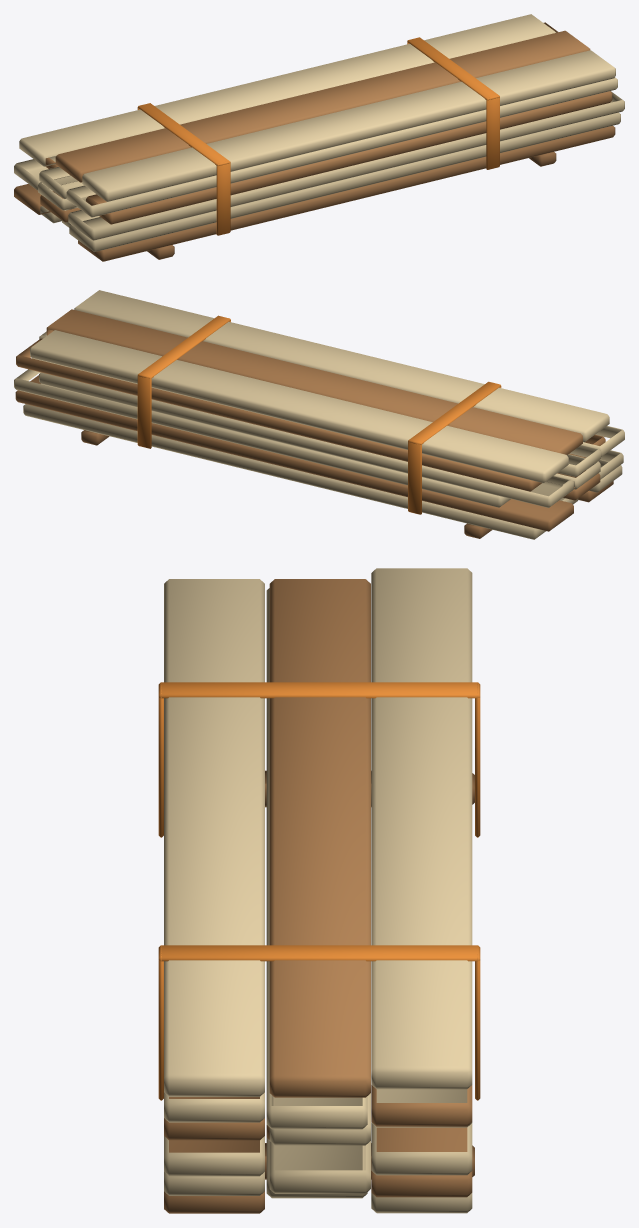
The model's file is SM_Lumber_Stack_01.glb.
3 views of the same model, one above another, from view 1: azimuth 30°, elevation 25°; view 2: azimuth 150°, elevation 25°; view 3: azimuth 270°, elevation 25° (orthographic). The views are drawn at different scales.
Visible parts, largest first — view 1: SM_Lumber_Stack_01; view 2: SM_Lumber_Stack_01; view 3: SM_Lumber_Stack_01.
Part boxes in pixels (x1,y1,x2,y2): SM_Lumber_Stack_01: (14,14,624,261); SM_Lumber_Stack_01: (14,290,624,539); SM_Lumber_Stack_01: (158,568,480,1213).
Size of the model in its own units: 2.4 by 0.356 by 0.62.
Materials: 1 (1 with a texture image).
